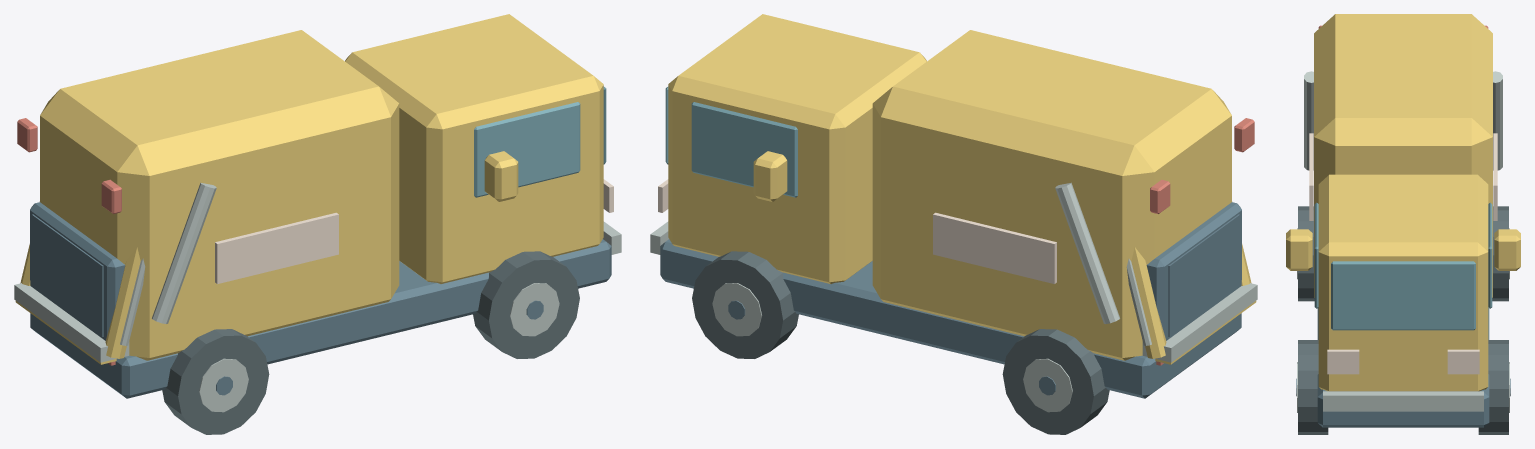
File: garbage-truck.glb
3 views of the same model, side by side, from view 1: azimuth 30°, elevation 25°; view 2: azimuth 150°, elevation 25°; view 3: azimuth 270°, elevation 25° (orthographic). The views are drawn at different scales.
Parts seen in each view (by area): view 1: garbage-truck_navy; view 2: garbage-truck_navy; view 3: garbage-truck_navy.
Part boxes in pixels (x1,y1,x2,y2): garbage-truck_navy: (14,14,621,434); garbage-truck_navy: (650,14,1257,434); garbage-truck_navy: (1286,14,1520,434).
Size of the model in its own units: 2.98 by 1.59 by 1.33.
1 material, 1 textured.
